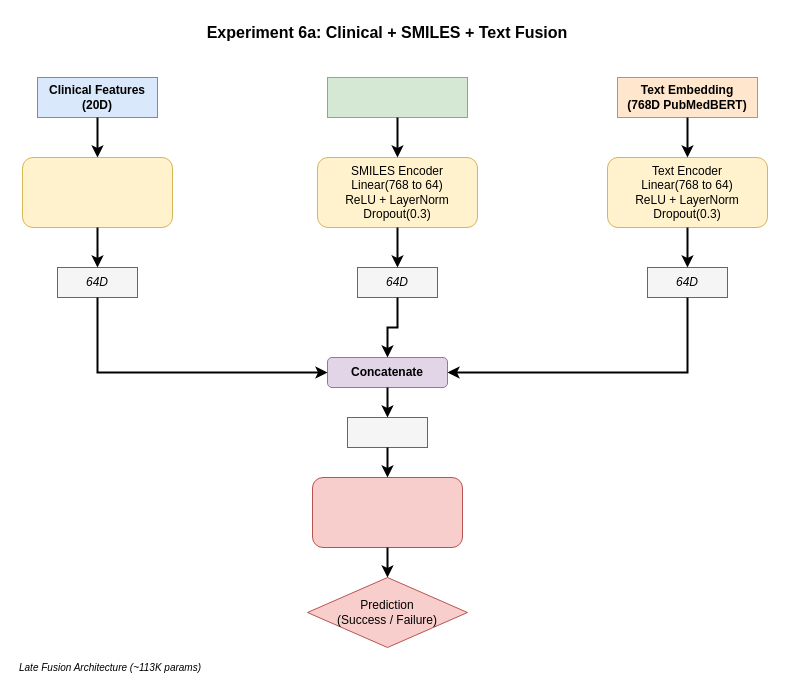
The diagram is 785 pixels wide and 694 high, and some of its shapes have lost their labels. The centre of each missing label's shape, as x and y in pixels:
"192D" goes at point 387,432.
"Classifier Linear(192 to 64) ReLU + LayerNorm + Dropout Linear(64 to 2)" goes at point 387,512.
"Clinical Encoder Linear(20 to 64) ReLU + LayerNorm Dropout(0.3)" goes at point 97,192.
"SMILES Embedding (768D ChemBERTa)" goes at point 397,97.
